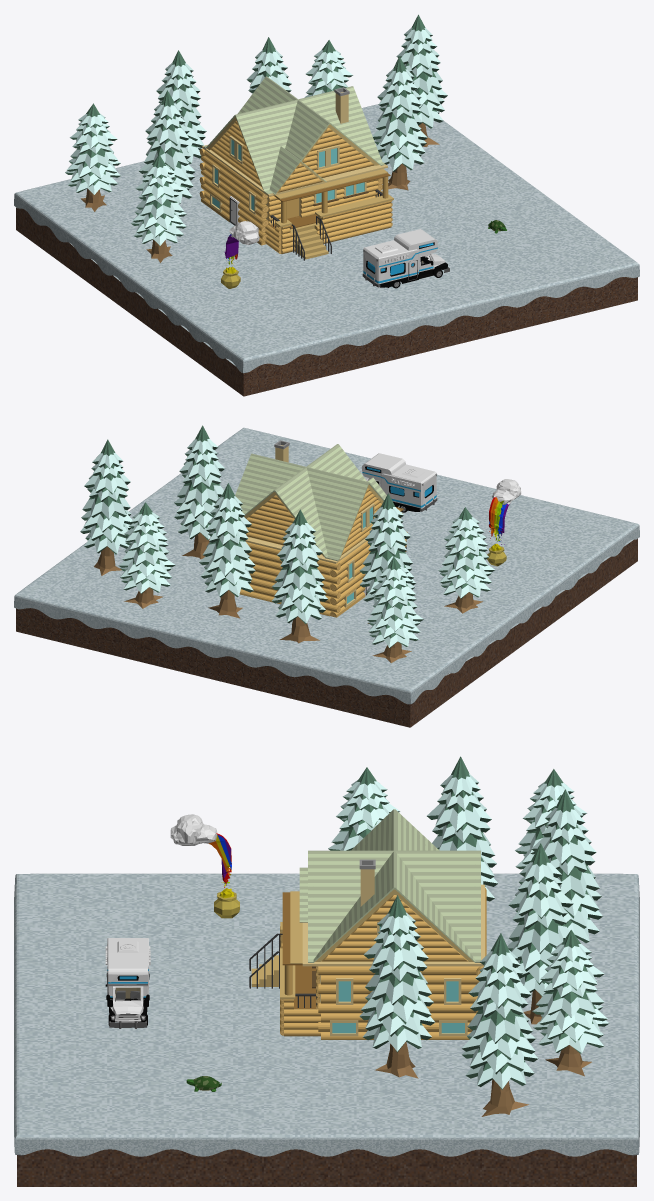
The picture shows the model from 3 angles, top to bottom: view 1: azimuth 30°, elevation 25°; view 2: azimuth 150°, elevation 25°; view 3: azimuth 270°, elevation 25°; orthographic projection. The views are drawn at different scales.
Visible parts, largest first — view 1: Cube.003, Cube.1516, VEHICLES_CAMPER, OBJRANDOM_RAINBOW; view 2: Cube.003, Cube.1516, VEHICLES_CAMPER, OBJRANDOM_RAINBOW; view 3: Cube.003, Cube.1516, VEHICLES_CAMPER, OBJRANDOM_RAINBOW.
Part boxes in pixels (box(x1,y1,x2,y2)): Cube.003: box(14, 14, 639, 396); Cube.1516: box(199, 76, 393, 260); VEHICLES_CAMPER: box(362, 229, 449, 288); OBJRANDOM_RAINBOW: box(221, 221, 259, 288); Cube.003: box(14, 425, 639, 727); Cube.1516: box(235, 440, 407, 617); VEHICLES_CAMPER: box(362, 453, 437, 512); OBJRANDOM_RAINBOW: box(487, 479, 521, 566); Cube.003: box(14, 756, 639, 1186); Cube.1516: box(249, 809, 486, 1039); VEHICLES_CAMPER: box(105, 938, 150, 1028); OBJRANDOM_RAINBOW: box(170, 814, 239, 918).
Size of the model in its own units: 4040 by 1642 by 4040.
Materials: 42 (5 with a texture image).
